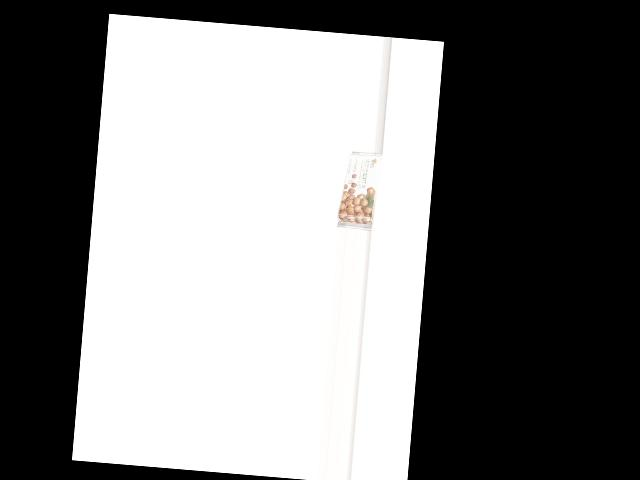chocolate: (336, 149, 379, 229)
